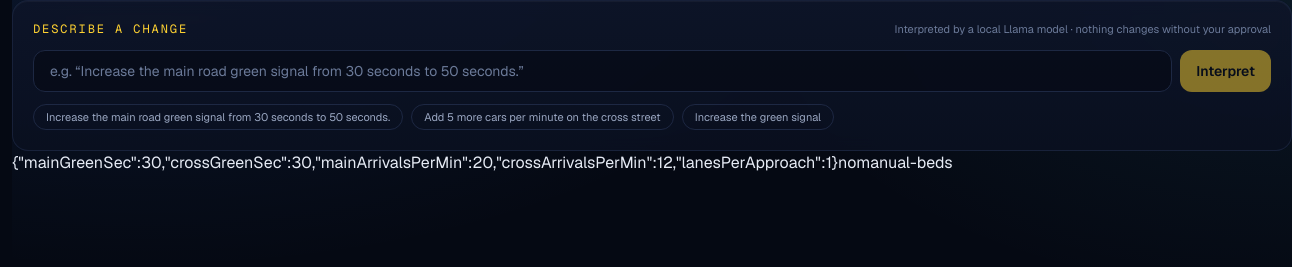
ScenarioAssistant approval flow › reports an unavailable local AI and keeps manual controls usable
Replace the text in the field named "Describe a scenario change" with "Increase main road green to 50 seconds" at (603, 70), box x1=33 y1=50 x2=1172 y2=92
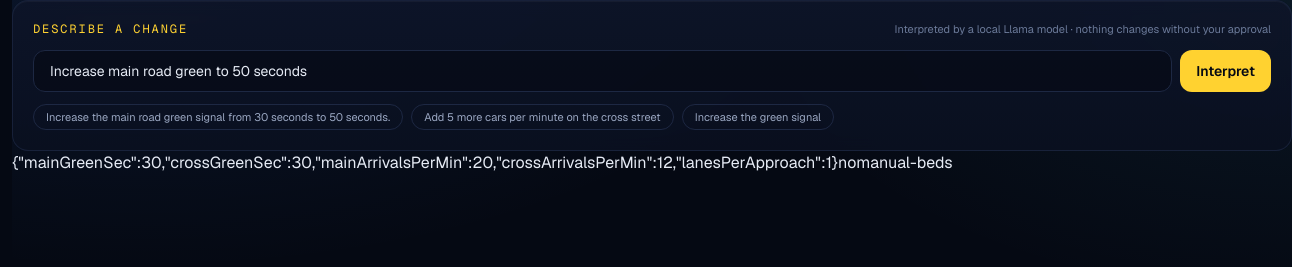
Click the button "Interpret".
click(1226, 70)  # box x1=1180 y1=50 x2=1271 y2=92
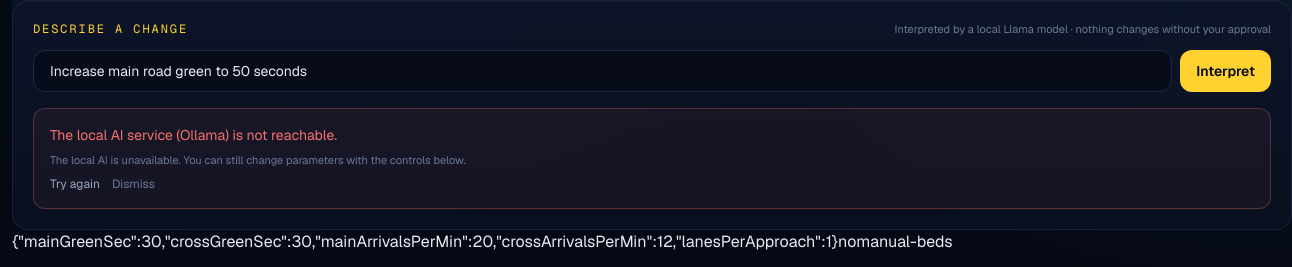
Expected: the text "The local AI service (Ollama) is not reachable." is shown, x1=50 y1=126 x2=337 y2=144
Expected: the text "You can still change parameters with the controls" is shown, x1=50 y1=152 x2=466 y2=166
